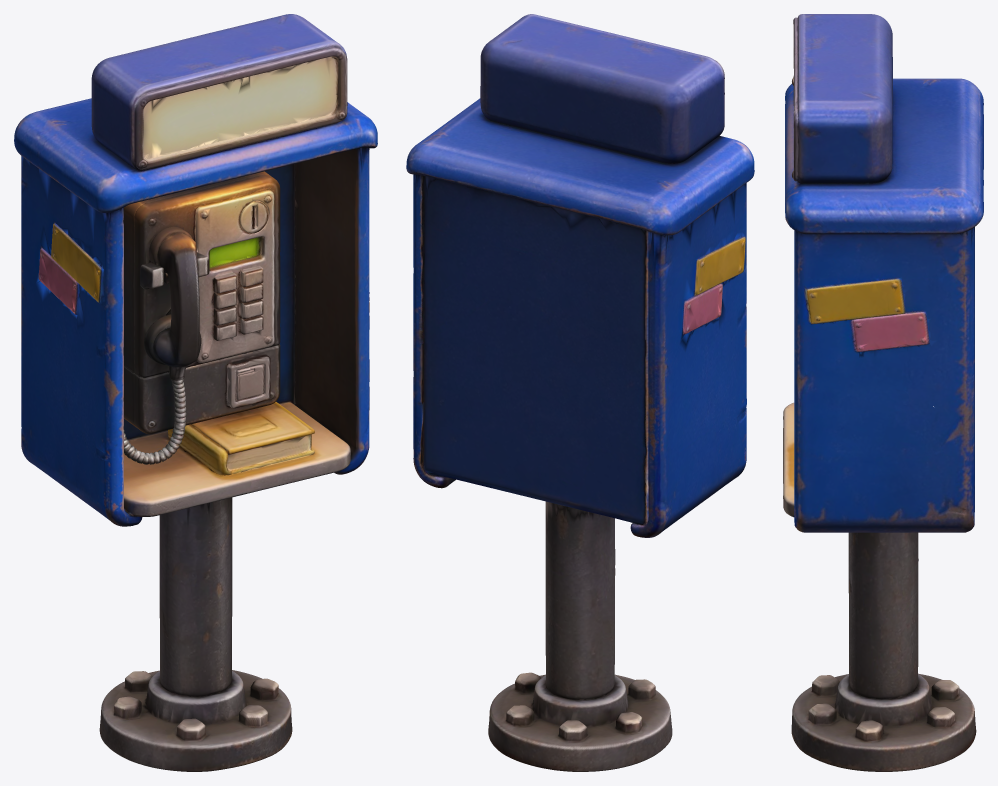
The model's file is payphone.glb.
3 views of the same model, side by side, from view 1: azimuth 30°, elevation 25°; view 2: azimuth 150°, elevation 25°; view 3: azimuth 270°, elevation 25° (orthographic). The views are drawn at different scales.
Visible parts, largest first — view 1: tripo_node_411e10f5-5395-4484-9d9b-215e42120fac; view 2: tripo_node_411e10f5-5395-4484-9d9b-215e42120fac; view 3: tripo_node_411e10f5-5395-4484-9d9b-215e42120fac.
Boxes of the visible parts, x1,y1,x2,y2 form: tripo_node_411e10f5-5395-4484-9d9b-215e42120fac: (14, 14, 377, 771); tripo_node_411e10f5-5395-4484-9d9b-215e42120fac: (406, 14, 754, 771); tripo_node_411e10f5-5395-4484-9d9b-215e42120fac: (783, 14, 983, 771).
Bounding box in the file's own units: 0.41 × 0.9792 × 0.2637.
1 material, 1 textured.
